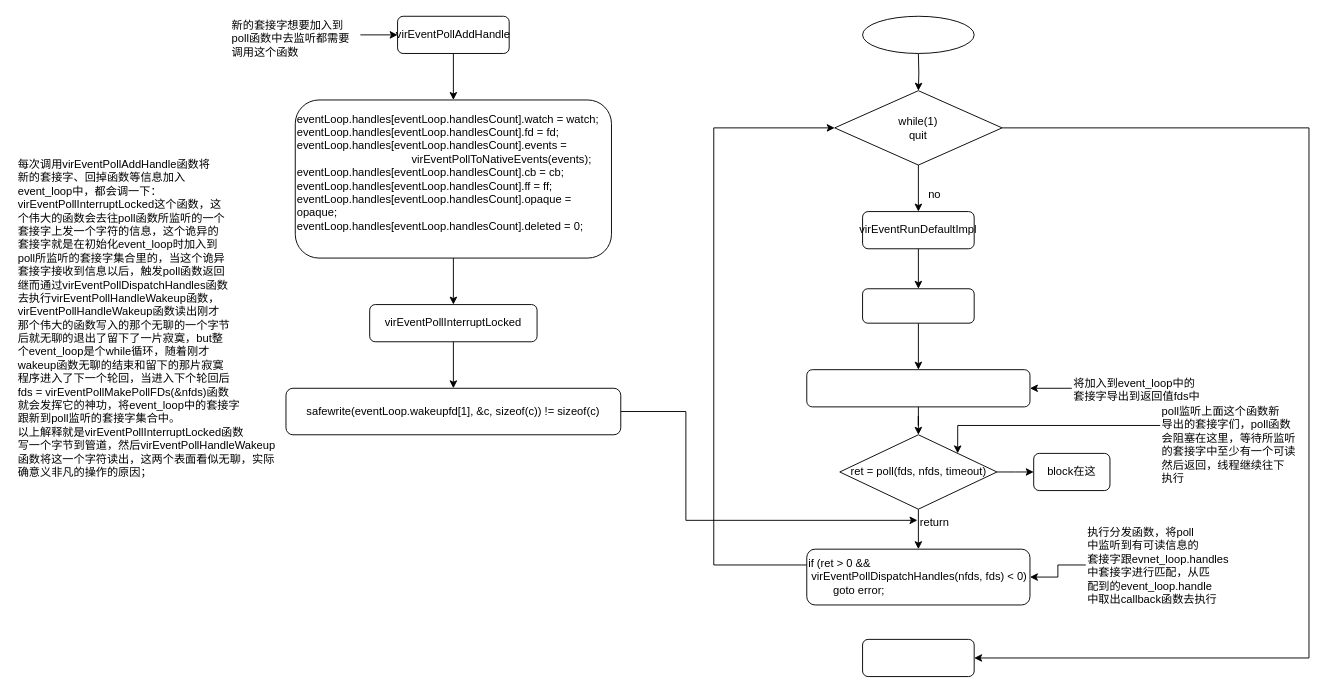
The diagram is 1333 pixels wide and 693 high, and some of its shapes have lost their labels. The centre of each missing label's shape, as x and y in pixels:
"break" belongs at pixel 918 657.
"fds = virEventPollMakePollFDs(&nfds)" belongs at pixel 918 388.
"virEventPollRunOnce" belongs at pixel 918 305.
"vshEventLoop" belongs at pixel 918 34.
